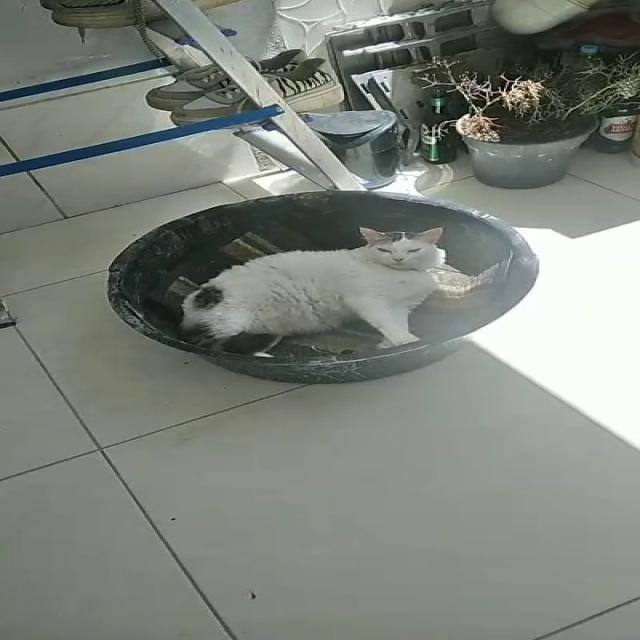Simba: (156, 220, 535, 358)
